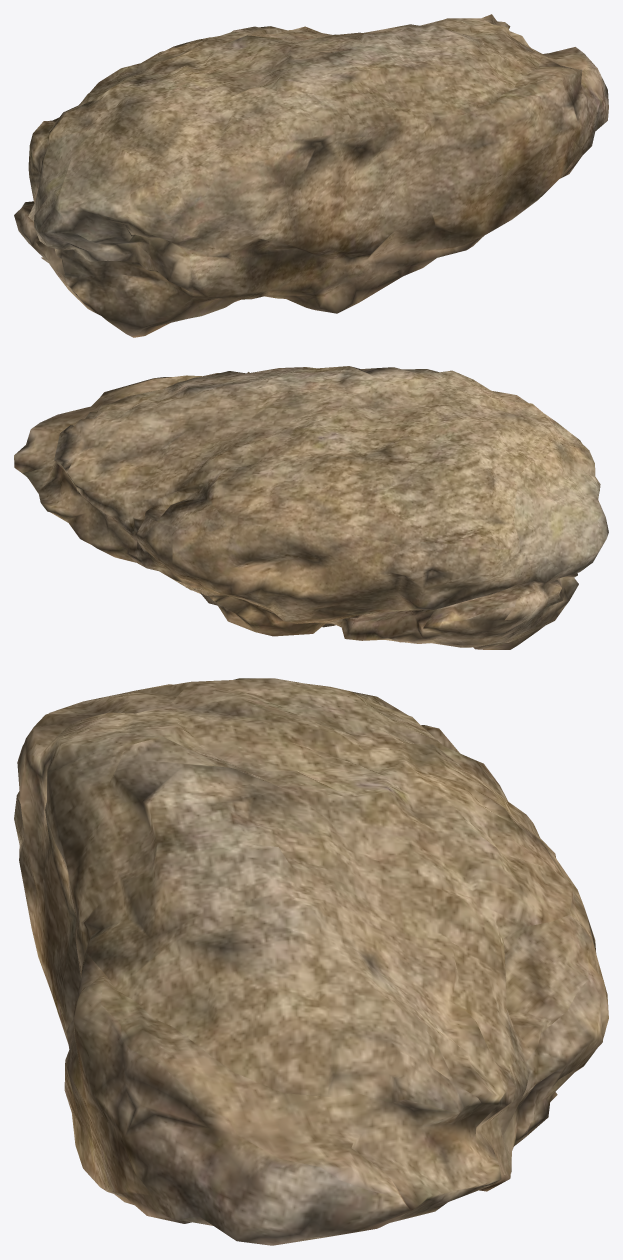
File: namaqualand_boulder_05.glb
3 views of the same model, one above another, from view 1: azimuth 30°, elevation 25°; view 2: azimuth 150°, elevation 25°; view 3: azimuth 270°, elevation 25° (orthographic). The views are drawn at different scales.
Parts seen in each view (by area): view 1: namaqualand_boulder_05; view 2: namaqualand_boulder_05; view 3: namaqualand_boulder_05.
Boxes of the visible parts, x1=… form: namaqualand_boulder_05: x1=14, y1=14, x2=608, y2=337; namaqualand_boulder_05: x1=14, y1=366, x2=608, y2=649; namaqualand_boulder_05: x1=14, y1=678, x2=608, y2=1245.
Bounding box in the file's own units: 1.36 × 0.5281 × 0.7481.
Materials: 1 (1 with a texture image).
